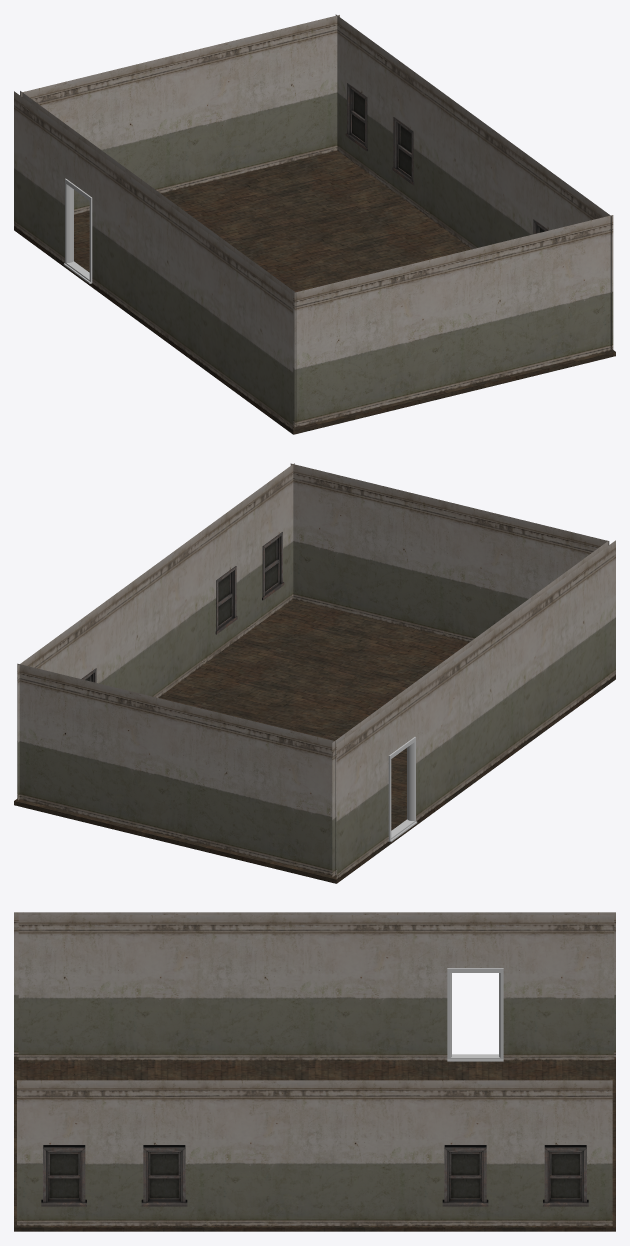
Rendered from room_windows_15m_x_10m.fbx.
3 views of the same model, one above another, from view 1: azimuth 30°, elevation 25°; view 2: azimuth 150°, elevation 25°; view 3: azimuth 270°, elevation 25° (orthographic). The views are drawn at different scales.
Visible parts, largest first — view 1: room_windows_15m_x_10m; view 2: room_windows_15m_x_10m; view 3: room_windows_15m_x_10m.
Part boxes in pixels (x1,y1,x2,y2): room_windows_15m_x_10m: (14,14,615,434); room_windows_15m_x_10m: (14,463,615,883); room_windows_15m_x_10m: (14,912,615,1231).
Size of the model in its own units: 1023 by 412 by 1500.
